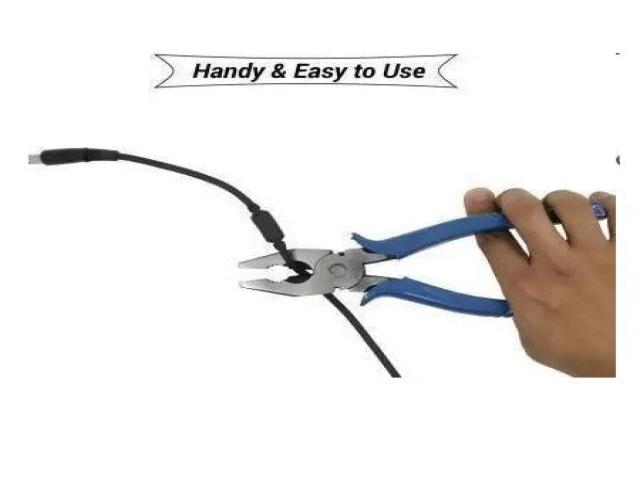Hand: (464, 188, 615, 377)
Pliers: (235, 213, 511, 316)
